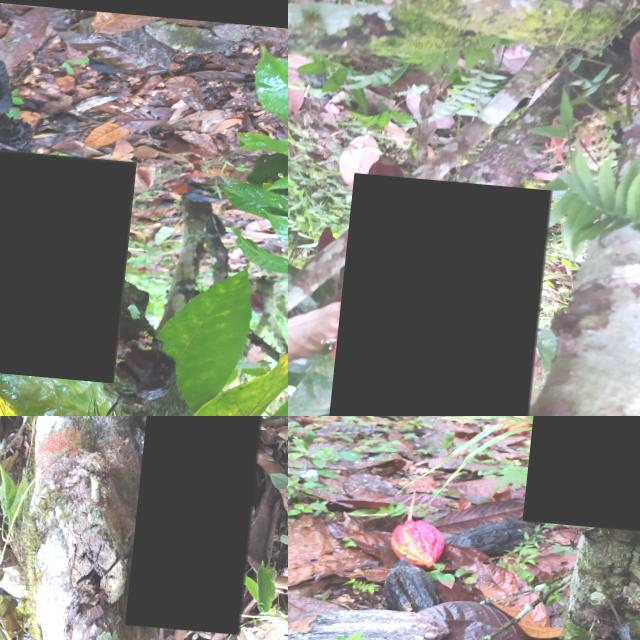Fitoftora: (0, 128, 139, 374), (141, 521, 183, 612)
Monilia: (532, 416, 640, 525)
Sana: (333, 170, 558, 416), (133, 416, 271, 627)
